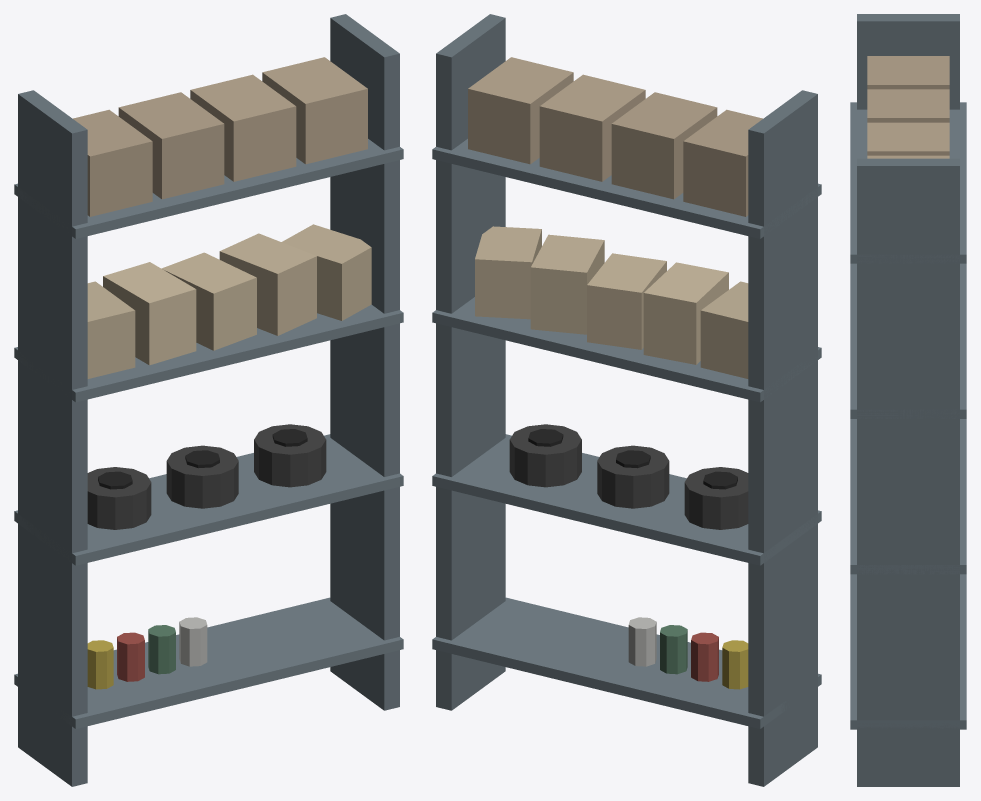
The model's file is garage_parts_shelf_a.glb.
3 renders of one model, left to right at view 1: azimuth 30°, elevation 25°; view 2: azimuth 150°, elevation 25°; view 3: azimuth 270°, elevation 25°, orthographic. The views are drawn at different scales.
Parts seen in each view (by area): view 1: body; view 2: body; view 3: body.
Boxes of the visible parts, x1,y1,x2,y2 form: body: (14,14,403,786); body: (432,14,821,786); body: (850,14,966,786).
Size of what is drawn, in the model's own units: 1.05 by 2 by 0.34.
